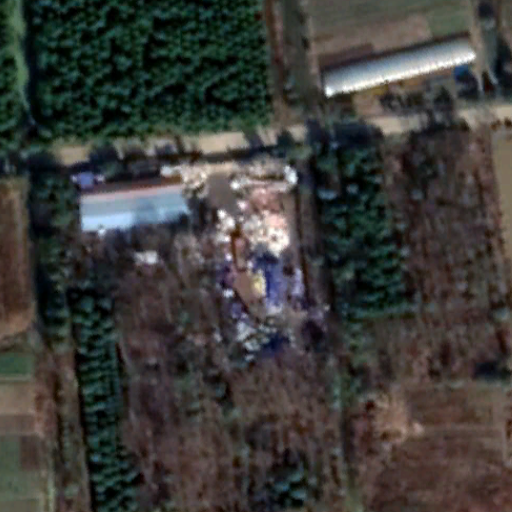msw: (186, 158, 312, 353)
